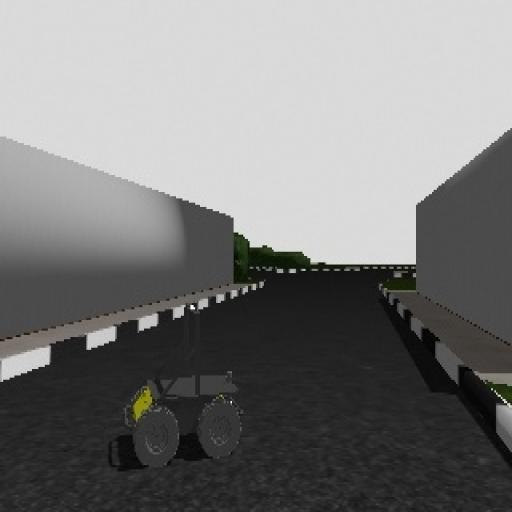huskya200: (112, 307, 260, 474)
